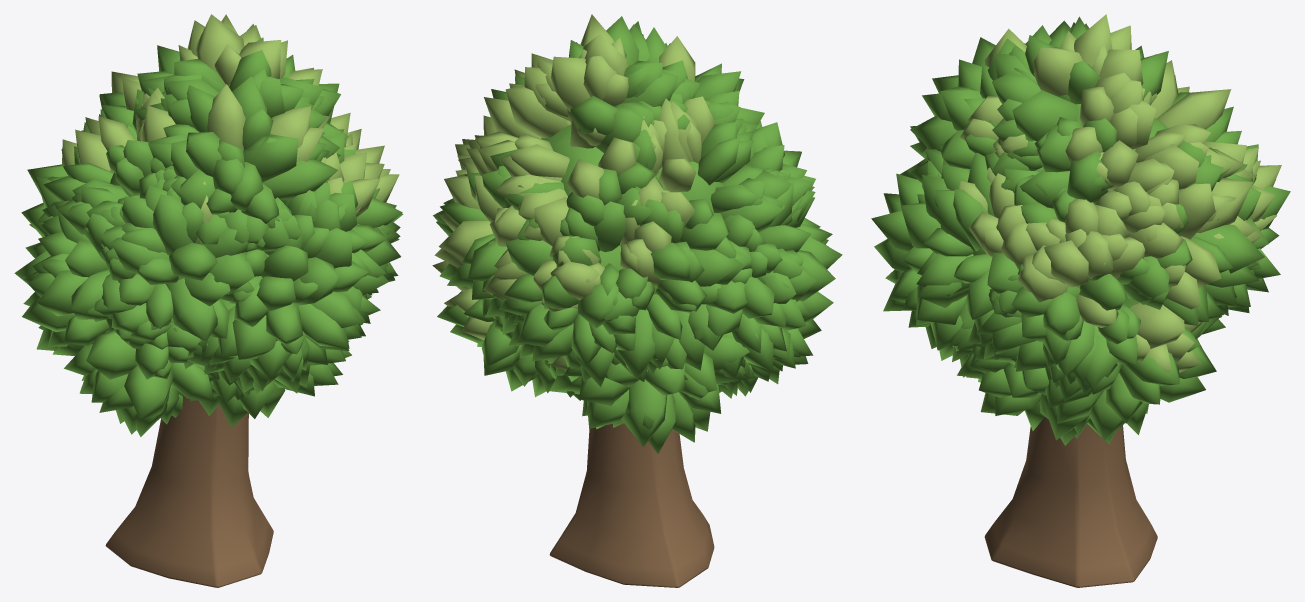
Rendered from tree.glb.
The picture shows the model from 3 angles, left to right: view 1: azimuth 30°, elevation 25°; view 2: azimuth 150°, elevation 25°; view 3: azimuth 270°, elevation 25°; orthographic projection. The views are drawn at different scales.
Visible parts, largest first — view 1: Tree_Canopy, Tree_Trunk, Tree_Canopy_Light; view 2: Tree_Canopy, Tree_Canopy_Light, Tree_Trunk; view 3: Tree_Canopy, Tree_Canopy_Light, Tree_Trunk.
Boxes of the visible parts, <box> form: Tree_Canopy: <box>14,37,403,436</box>; Tree_Trunk: <box>105,395,273,587</box>; Tree_Canopy_Light: <box>61,14,399,243</box>; Tree_Canopy: <box>433,16,842,453</box>; Tree_Canopy_Light: <box>432,14,715,376</box>; Tree_Trunk: <box>549,423,714,587</box>; Tree_Canopy: <box>871,16,1290,445</box>; Tree_Canopy_Light: <box>958,14,1281,372</box>; Tree_Trunk: <box>984,417,1157,587</box>.
Size of the model in its own units: 1.39 by 1.89 by 1.31.
